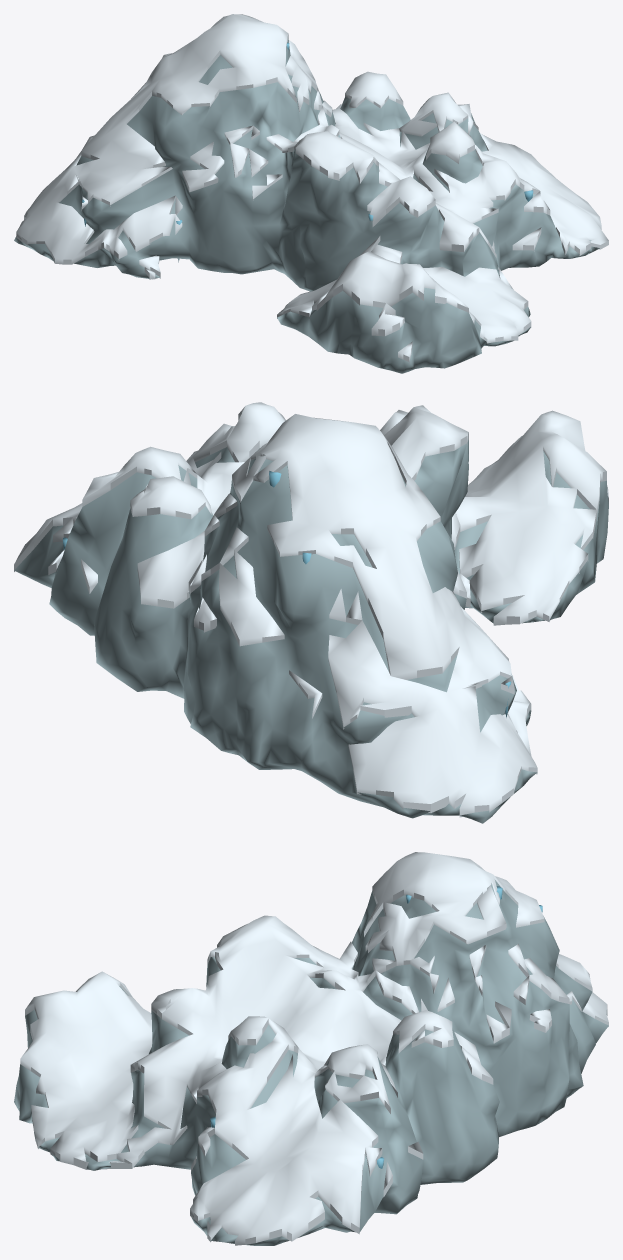
Rendered from ThirdRoom_RockArch.fbx.
The picture shows the model from 3 angles, top to bottom: view 1: azimuth 30°, elevation 25°; view 2: azimuth 150°, elevation 25°; view 3: azimuth 270°, elevation 25°; orthographic projection. The views are drawn at different scales.
Parts seen in each view (by area): view 1: ThirdRoom_RockArch_LOD0; view 2: ThirdRoom_RockArch_LOD0; view 3: ThirdRoom_RockArch_LOD0.
Boxes of the visible parts, bbox=[...] form: ThirdRoom_RockArch_LOD0: bbox=[14, 14, 608, 373]; ThirdRoom_RockArch_LOD0: bbox=[14, 402, 608, 823]; ThirdRoom_RockArch_LOD0: bbox=[14, 852, 608, 1245].
Size of what is drawn, in the model's own units: 5.95 by 2.75 by 6.
